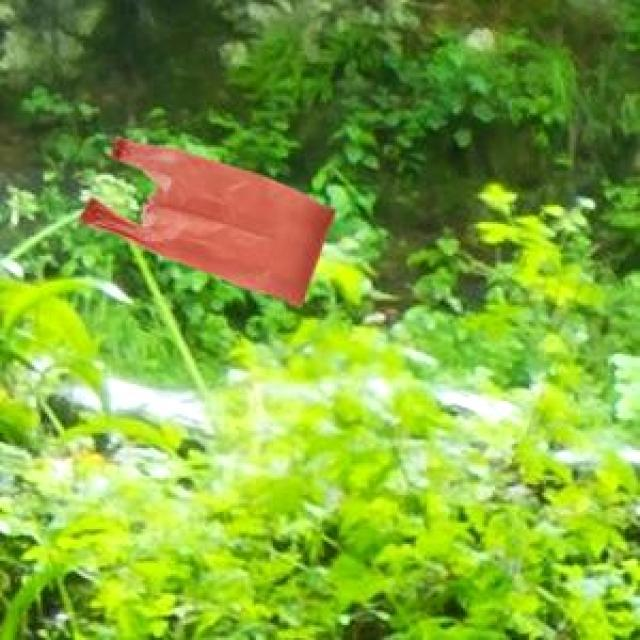Plastic_Bag: (78, 134, 332, 305)
